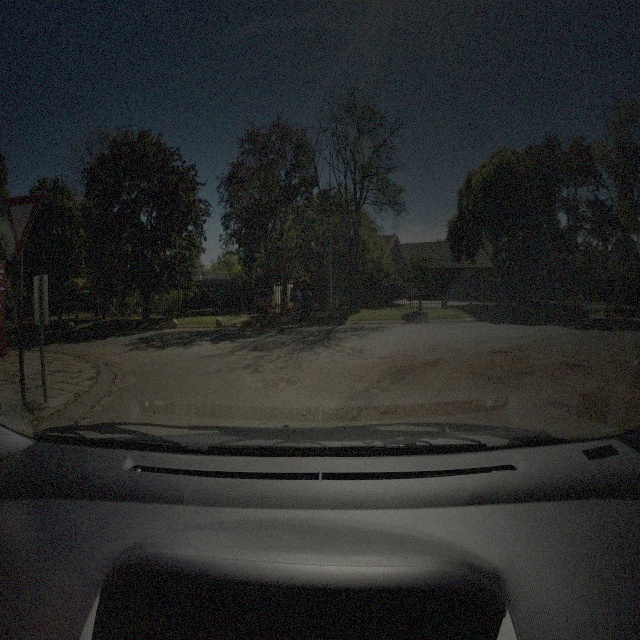pothole: (548, 397, 606, 423), (505, 368, 534, 384), (559, 361, 593, 374), (595, 385, 614, 399), (379, 353, 398, 365), (492, 348, 513, 357)
